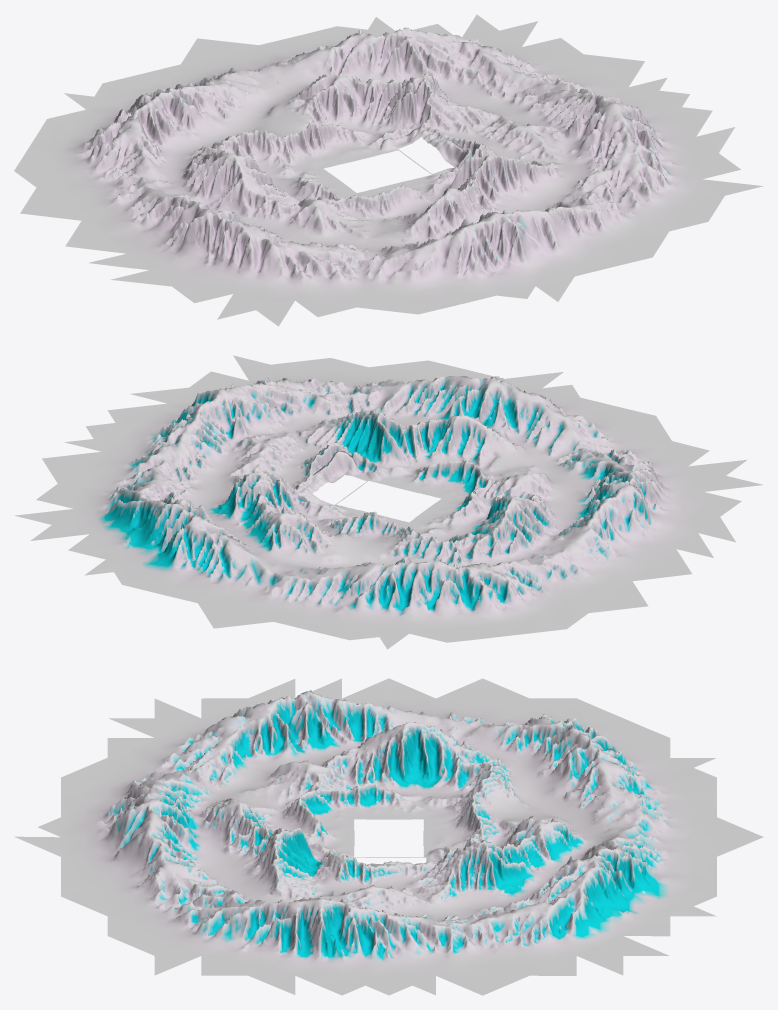
File: BasinMountains.glb
The picture shows the model from 3 angles, top to bottom: view 1: azimuth 30°, elevation 25°; view 2: azimuth 150°, elevation 25°; view 3: azimuth 270°, elevation 25°; orthographic projection. The views are drawn at different scales.
Parts seen in each view (by area): view 1: BasinMountains_03, BasinMountains_02, BasinMountains_04, BasinMountains_01, BasinMountains_00, BasinMountains_07, BasinMountains_05, BasinMountains_06; view 2: BasinMountains_04, BasinMountains_06, BasinMountains_05, BasinMountains_03, BasinMountains_00, BasinMountains_02, BasinMountains_07, BasinMountains_01; view 3: BasinMountains_07, BasinMountains_00, BasinMountains_01, BasinMountains_05, BasinMountains_03, BasinMountains_04, BasinMountains_06, BasinMountains_02.
Part boxes in pixels (left/top/right/bottom): BasinMountains_03: left=66, top=167, right=364, bottom=326; BasinMountains_02: left=295, top=184, right=535, bottom=316; BasinMountains_04: left=14, top=109, right=339, bottom=246; BasinMountains_01: left=395, top=155, right=716, bottom=301; BasinMountains_00: left=415, top=92, right=763, bottom=208; BasinMountains_07: left=390, top=14, right=689, bottom=162; BasinMountains_05: left=39, top=38, right=360, bottom=166; BasinMountains_06: left=197, top=17, right=452, bottom=159; BasinMountains_04: left=401, top=496, right=691, bottom=639; BasinMountains_06: left=68, top=480, right=369, bottom=628; BasinMountains_05: left=214, top=511, right=476, bottom=649; BasinMountains_03: left=425, top=456, right=762, bottom=573; BasinMountains_00: left=86, top=355, right=376, bottom=492; BasinMountains_02: left=405, top=380, right=709, bottom=496; BasinMountains_07: left=15, top=426, right=352, bottom=540; BasinMountains_01: left=301, top=358, right=563, bottom=489; BasinMountains_07: left=389, top=838, right=669, bottom=995; BasinMountains_00: left=132, top=851, right=388, bottom=995; BasinMountains_01: left=14, top=798, right=354, bottom=945; BasinMountains_05: left=423, top=725, right=762, bottom=838; BasinMountains_03: left=108, top=678, right=388, bottom=823; BasinMountains_04: left=389, top=678, right=646, bottom=823; BasinMountains_06: left=423, top=816, right=763, bottom=936; BasinMountains_02: left=37, top=738, right=354, bottom=838.
Size of the model in its own units: 1024 by 69.71 by 1024.
